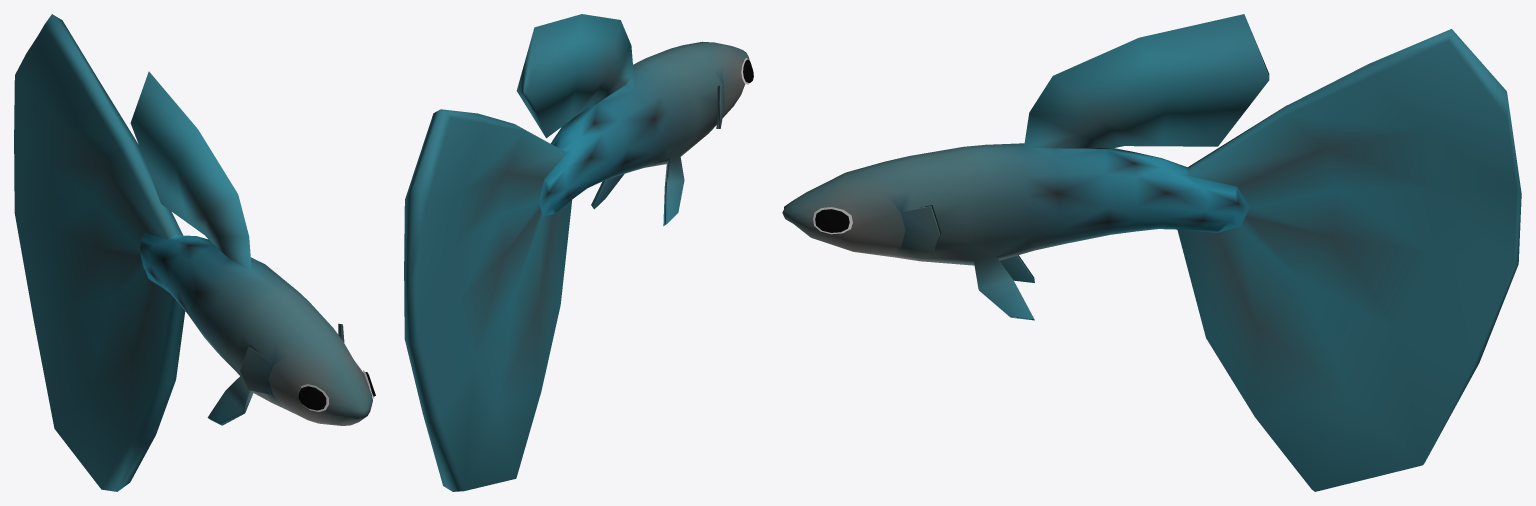
Rendered from underwater-fish-betta-fish_v1.glb.
The picture shows the model from 3 angles, left to right: view 1: azimuth 30°, elevation 25°; view 2: azimuth 150°, elevation 25°; view 3: azimuth 270°, elevation 25°; orthographic projection. The views are drawn at different scales.
Visible parts, largest first — view 1: Betta Fish_v1; view 2: Betta Fish_v1; view 3: Betta Fish_v1.
Part boxes in pixels (x1,y1,x2,y2): Betta Fish_v1: (14,14,375,491); Betta Fish_v1: (404,14,753,491); Betta Fish_v1: (782,14,1521,491).
Bounding box in the file's own units: 0.0121 × 0.0497 × 0.07.
